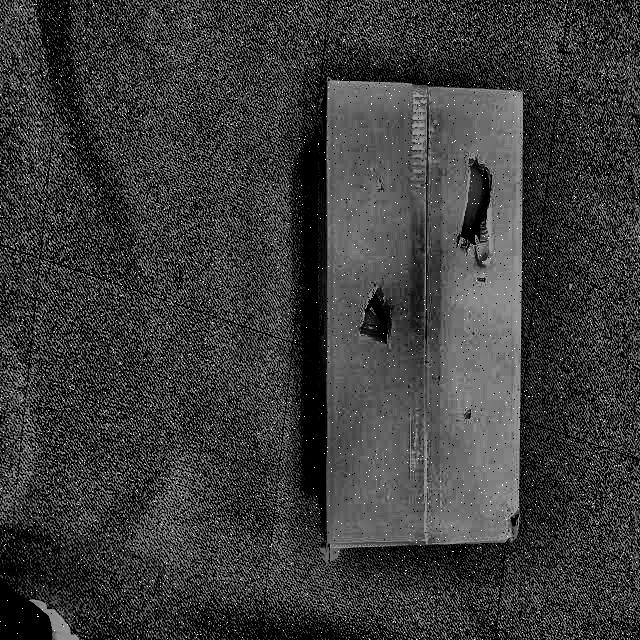box: (306, 66, 526, 565)
hole: (456, 151, 496, 267), (357, 282, 393, 354)
